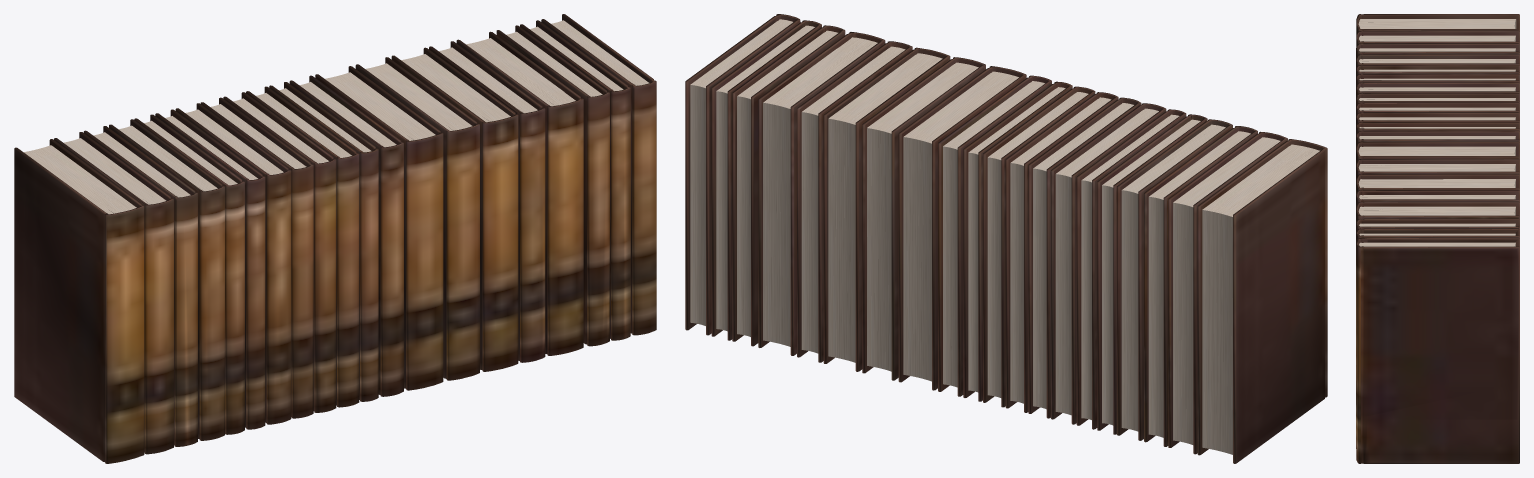
Rendered from books-encyclopedia.lite.6aa8796f.glb.
3 renders of one model, left to right at view 1: azimuth 30°, elevation 25°; view 2: azimuth 150°, elevation 25°; view 3: azimuth 270°, elevation 25°, orthographic. The views are drawn at different scales.
Parts seen in each view (by area): view 1: model; view 2: model; view 3: model.
Boxes of the visible parts, <box> form: model: <box>14,14,656,463</box>; model: <box>685,14,1327,463</box>; model: <box>1356,14,1519,463</box>.
Bounding box in the file's own units: 0.5513 × 0.2374 × 0.1631.
2 materials, 2 textured.
